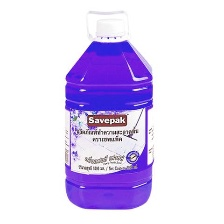cleaning_solution: (61, 6, 155, 213)
